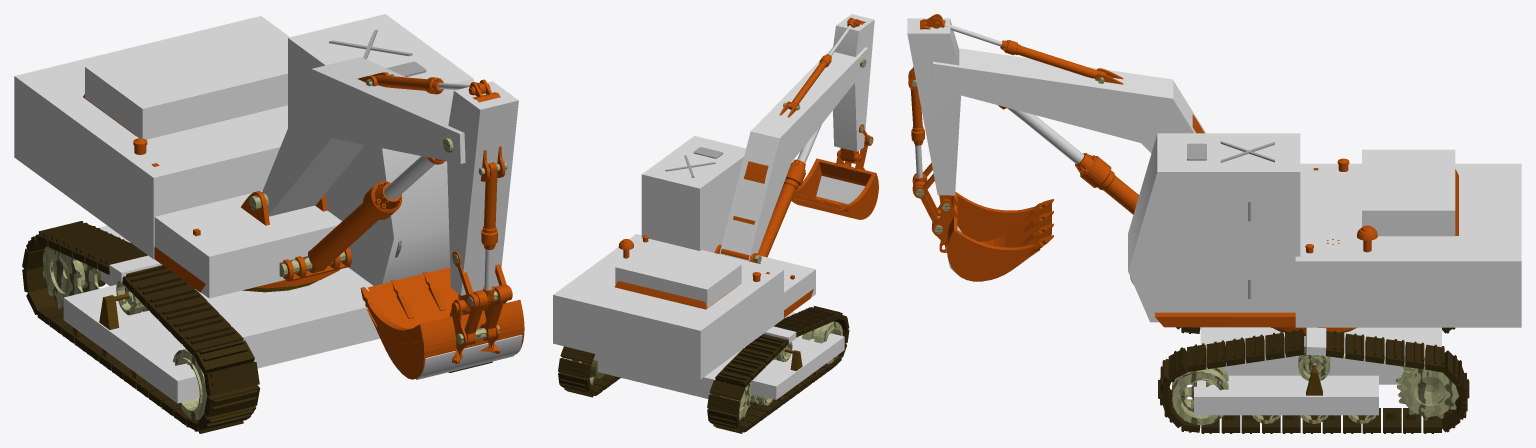
Rendered from excavator.fbx.
3 views of the same model, side by side, from view 1: azimuth 30°, elevation 25°; view 2: azimuth 150°, elevation 25°; view 3: azimuth 270°, elevation 25° (orthographic). The views are drawn at different scales.
Parts seen in each view (by area): view 1: -hidden-Box001, -hidden-convexhull, -hidden-Box002, -hidden-Box003, -hidden-box00, -hidden-convexhull002, -hidden-convexhull003, -hidden-box002, -hidden-convexhull001, bucket, hydrolic_004, EngineBody (+32 smaller); view 2: -hidden-Box001, -hidden-convexhull, -hidden-Box002, -hidden-convexhull002, -hidden-convexhull001, -hidden-convexhull003, -hidden-box002, -hidden-box00, EngineBody, hydrolic_004, -hidden-Box003, bucket (+22 smaller); view 3: -hidden-Box001, -hidden-convexhull, -hidden-convexhull002, -hidden-Box002, -hidden-box001, -hidden-convexhull003, -hidden-box00, EngineBody, -hidden-convexhull_ b05, bucket, leftGear, -hidden-convexhull_ b00 (+9 smaller).
Part boxes in pixels (left/top/right/bottom): -hidden-Box001: left=14, top=16, right=289, bottom=259; -hidden-convexhull: left=288, top=14, right=473, bottom=285; -hidden-Box002: left=85, top=29, right=287, bottom=139; -hidden-Box003: left=154, top=190, right=341, bottom=298; -hidden-box00: left=98, top=225, right=379, bottom=368; -hidden-convexhull002: left=311, top=57, right=465, bottom=163; -hidden-convexhull003: left=447, top=81, right=518, bottom=295; -hidden-box002: left=63, top=284, right=199, bottom=403; -hidden-convexhull001: left=262, top=70, right=364, bottom=216; bucket: left=360, top=271, right=521, bottom=363; hydrolic_004: left=279, top=181, right=401, bottom=276; EngineBody: left=83, top=94, right=351, bottom=292; -hidden-Box001: left=553, top=234, right=783, bottom=379; -hidden-convexhull: left=641, top=136, right=745, bottom=252; -hidden-Box002: left=615, top=242, right=741, bottom=307; -hidden-convexhull002: left=750, top=47, right=868, bottom=162; -hidden-convexhull001: left=719, top=132, right=791, bottom=261; -hidden-convexhull003: left=833, top=14, right=874, bottom=151; -hidden-box002: left=751, top=333, right=844, bottom=399; -hidden-box00: left=593, top=312, right=797, bottom=398; EngineBody: left=615, top=235, right=813, bottom=317; hydrolic_004: left=758, top=159, right=805, bottom=257; -hidden-Box003: left=760, top=256, right=815, bottom=309; bucket: left=792, top=149, right=878, bottom=212; -hidden-Box001: left=1295, top=163, right=1521, bottom=327; -hidden-convexhull: left=1128, top=133, right=1300, bottom=322; -hidden-convexhull002: left=931, top=48, right=1173, bottom=143; -hidden-Box002: left=1362, top=149, right=1455, bottom=236; -hidden-box001: left=1194, top=375, right=1378, bottom=415; -hidden-convexhull003: left=907, top=18, right=960, bottom=195; -hidden-box00: left=1200, top=327, right=1441, bottom=384; EngineBody: left=1155, top=158, right=1458, bottom=333; -hidden-convexhull_ b05: left=947, top=229, right=1040, bottom=281; bucket: left=931, top=194, right=1053, bottom=257; leftGear: left=1396, top=358, right=1458, bottom=420; -hidden-convexhull_ b00: left=955, top=191, right=1033, bottom=241.
Size of the model in its own units: 495 by 998 by 632.
8 materials, 1 textured.
